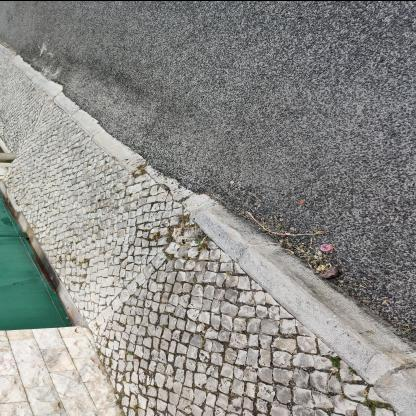plastik: (320, 242, 334, 250)
